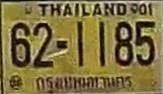1: (77, 21, 83, 66), (98, 21, 104, 66)
2: (32, 22, 52, 67)
5: (135, 20, 154, 65)
6: (10, 22, 29, 66)
8: (114, 21, 132, 65)
BKK: (32, 73, 135, 91)
